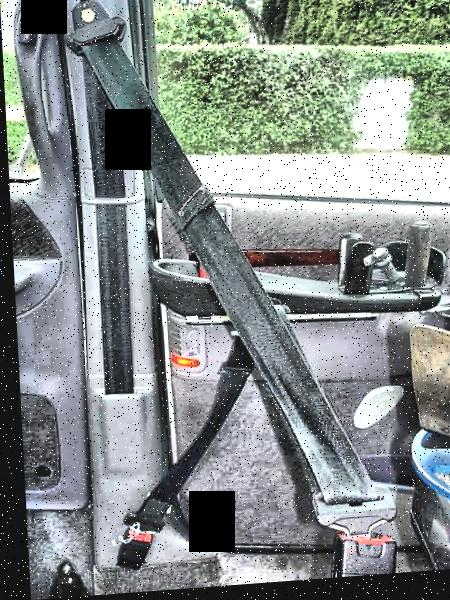seatbelt: (64, 0, 395, 562), (91, 320, 285, 559)
